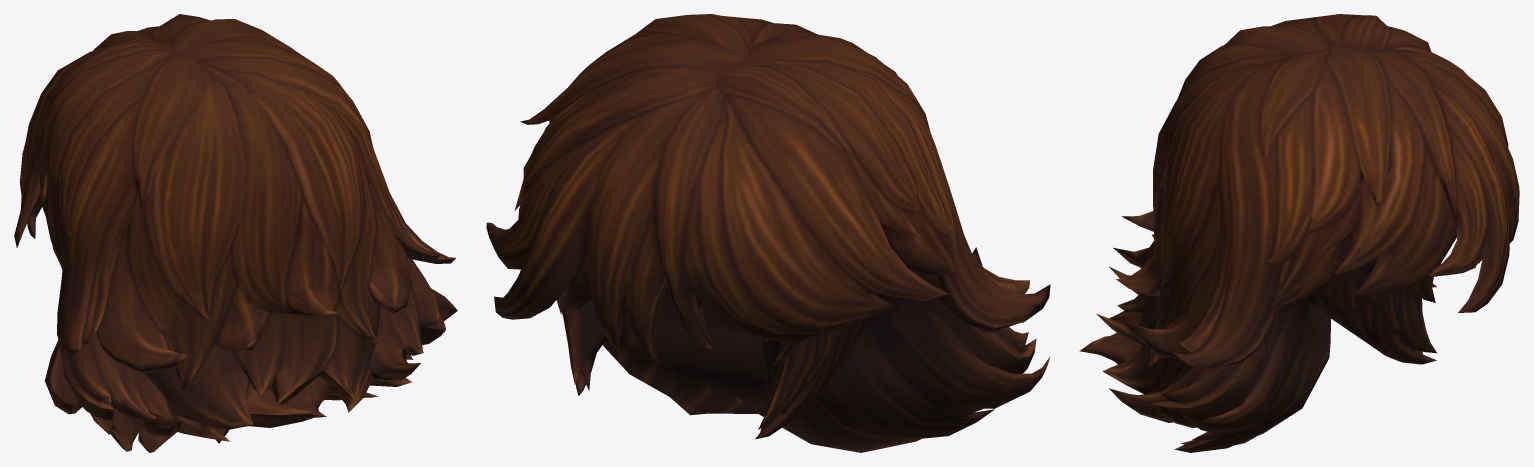
3 renders of one model, left to right at view 1: azimuth 30°, elevation 25°; view 2: azimuth 150°, elevation 25°; view 3: azimuth 270°, elevation 25°, orthographic. The views are drawn at different scales.
Parts seen in each view (by area): view 1: geometry_0; view 2: geometry_0; view 3: geometry_0.
Boxes of the visible parts, x1,y1,x2,y2 form: geometry_0: [14, 14, 457, 452]; geometry_0: [486, 14, 1050, 452]; geometry_0: [1079, 14, 1519, 452].
Bounding box in the file's own units: 1.2 × 1.01 × 1.12.
Materials: 1 (1 with a texture image).
